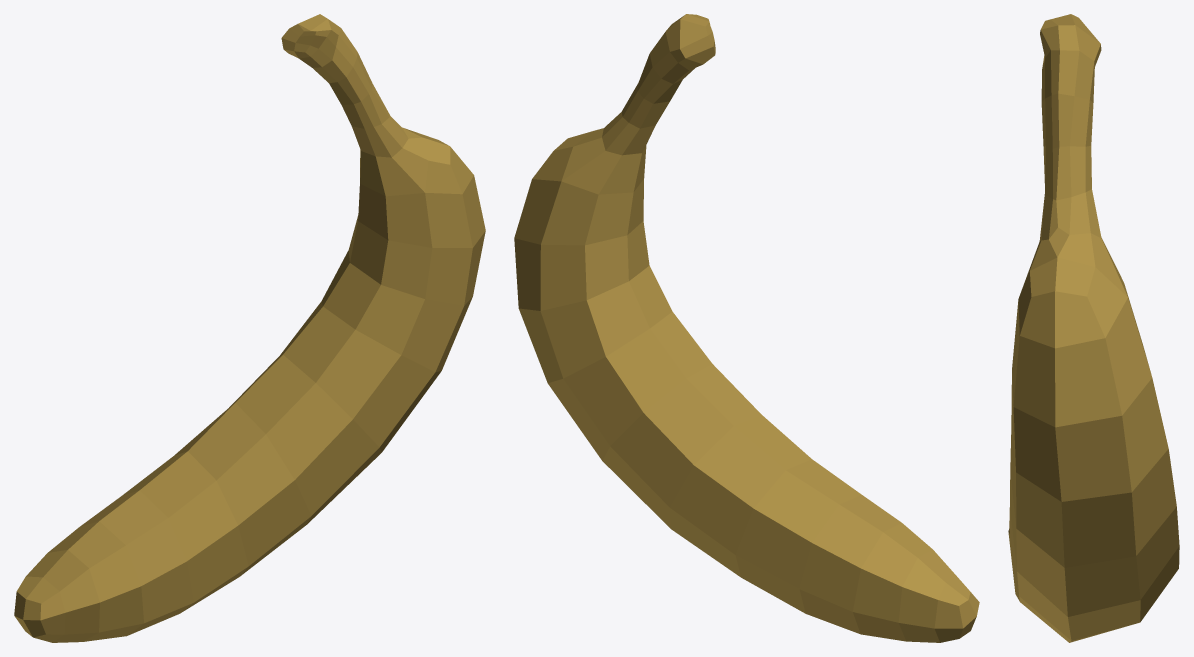
File: Banana.obj
3 renders of one model, left to right at view 1: azimuth 30°, elevation 25°; view 2: azimuth 150°, elevation 25°; view 3: azimuth 270°, elevation 25°, orthographic. The views are drawn at different scales.
Parts seen in each view (by area): view 1: mesh_0; view 2: mesh_0; view 3: mesh_0.
Part boxes in pixels (x1,y1,x2,y2): mesh_0: (14,14,485,642); mesh_0: (514,14,979,642); mesh_0: (1008,14,1179,642).
Size of the model in its own units: 1.18 by 1.4 by 0.3095.
